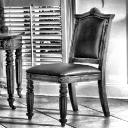chair_success: (16, 2, 124, 126)
